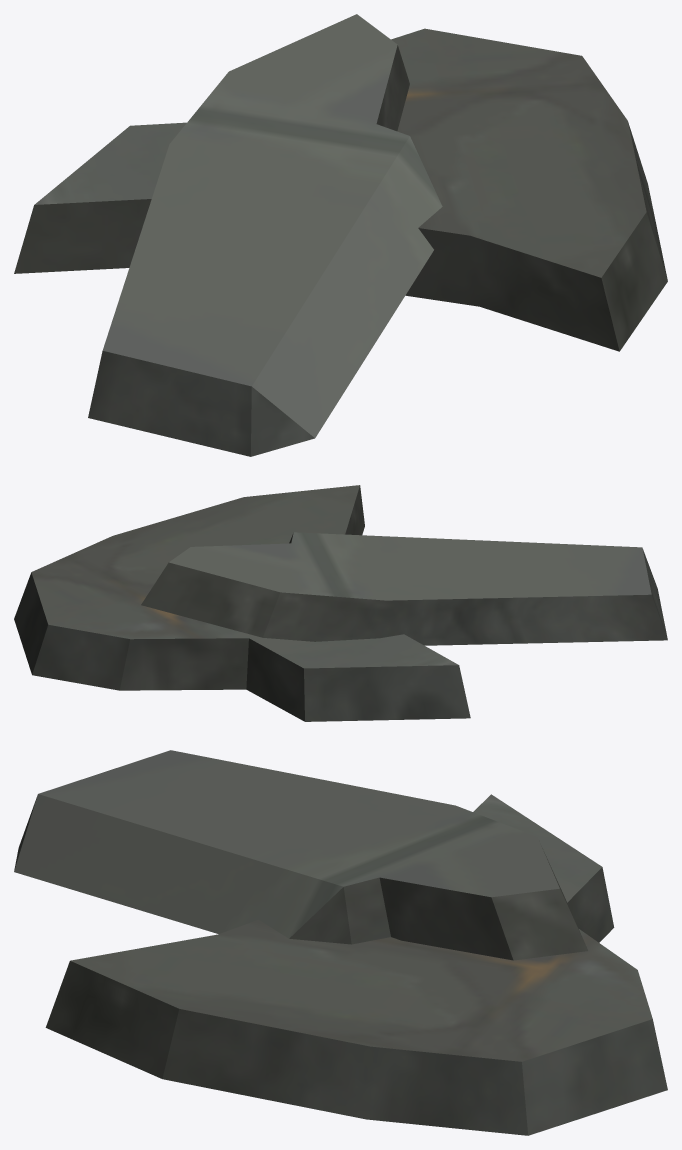
File: sc_dungeon_moshenta_zhuankuai_001_b.FBX
3 renders of one model, top to bottom at view 1: azimuth 30°, elevation 25°; view 2: azimuth 150°, elevation 25°; view 3: azimuth 270°, elevation 25°, orthographic. The views are drawn at different scales.
Parts seen in each view (by area): view 1: sc_dungeon_moshenta_zhuankuai_001_b; view 2: sc_dungeon_moshenta_zhuankuai_001_b; view 3: sc_dungeon_moshenta_zhuankuai_001_b.
Boxes of the visible parts, left/top/right/bottom form: sc_dungeon_moshenta_zhuankuai_001_b: left=14, top=14, right=667, bottom=456; sc_dungeon_moshenta_zhuankuai_001_b: left=14, top=485, right=667, bottom=721; sc_dungeon_moshenta_zhuankuai_001_b: left=14, top=750, right=667, bottom=1135.
Size of the model in its own units: 1.4 by 1.17 by 0.2781.
Materials: 1 (1 with a texture image).
